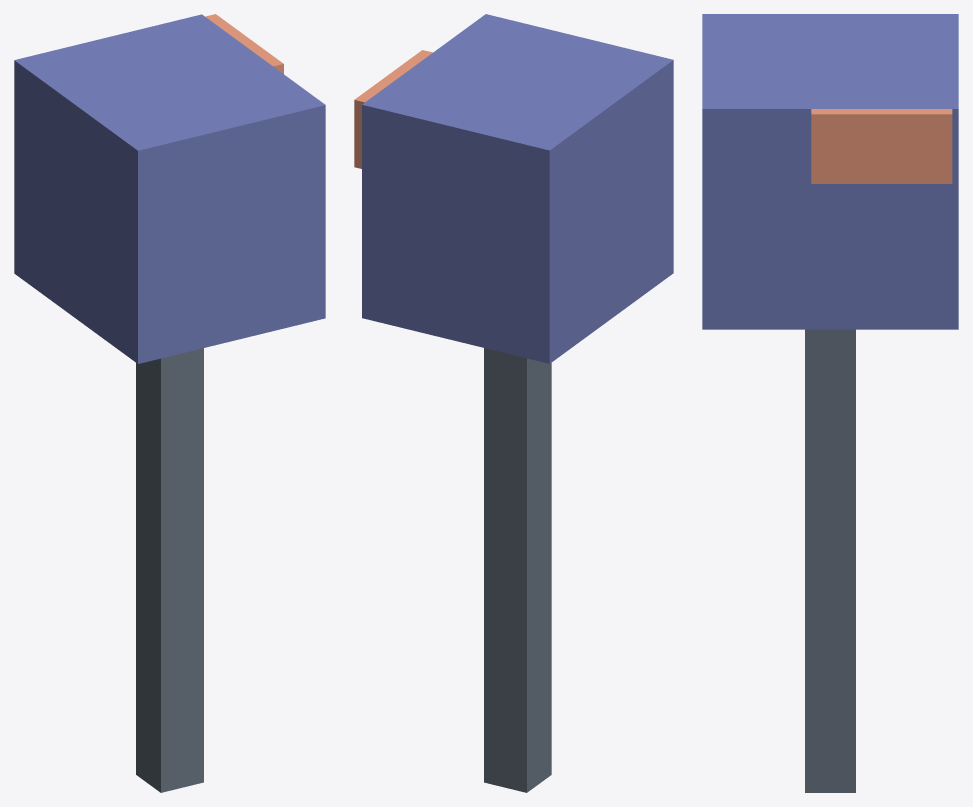
Rendered from mailbox_01_lo2.glb.
3 renders of one model, left to right at view 1: azimuth 30°, elevation 25°; view 2: azimuth 150°, elevation 25°; view 3: azimuth 270°, elevation 25°, orthographic. The views are drawn at different scales.
Visible parts, largest first — view 1: mailbox_01_lo2; view 2: mailbox_01_lo2; view 3: mailbox_01_lo2.
Boxes of the visible parts, x1=… form: mailbox_01_lo2: x1=14, y1=14, x2=325, y2=792; mailbox_01_lo2: x1=354, y1=14, x2=673, y2=792; mailbox_01_lo2: x1=702, y1=14, x2=958, y2=792.
Size of the model in its own units: 0.37 by 1.24 by 0.4.
